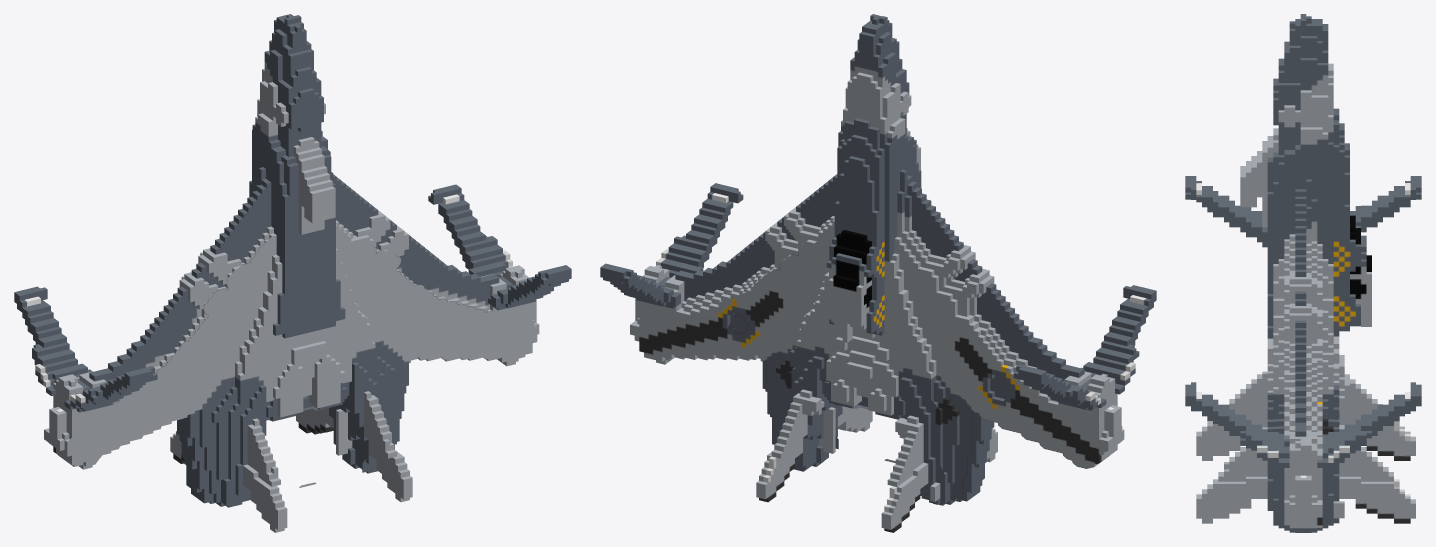
File: Spaceships_1.fbx
The picture shows the model from 3 angles, left to right: view 1: azimuth 30°, elevation 25°; view 2: azimuth 150°, elevation 25°; view 3: azimuth 270°, elevation 25°; orthographic projection. The views are drawn at different scales.
Parts seen in each view (by area): view 1: Spaceships_1; view 2: Spaceships_1; view 3: Spaceships_1.
Part boxes in pixels (x1,y1,x2,y2): Spaceships_1: [14, 14, 571, 532]; Spaceships_1: [600, 14, 1156, 532]; Spaceships_1: [1185, 14, 1421, 532].
Size of the model in its own units: 1030 by 950 by 430.
